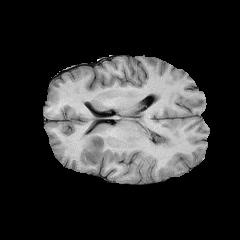glioma: (80, 120, 181, 166)
